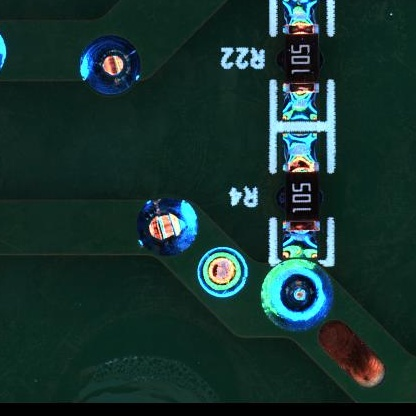spot: (260, 258, 331, 331), (80, 36, 143, 97), (136, 197, 199, 257), (197, 246, 249, 298)
